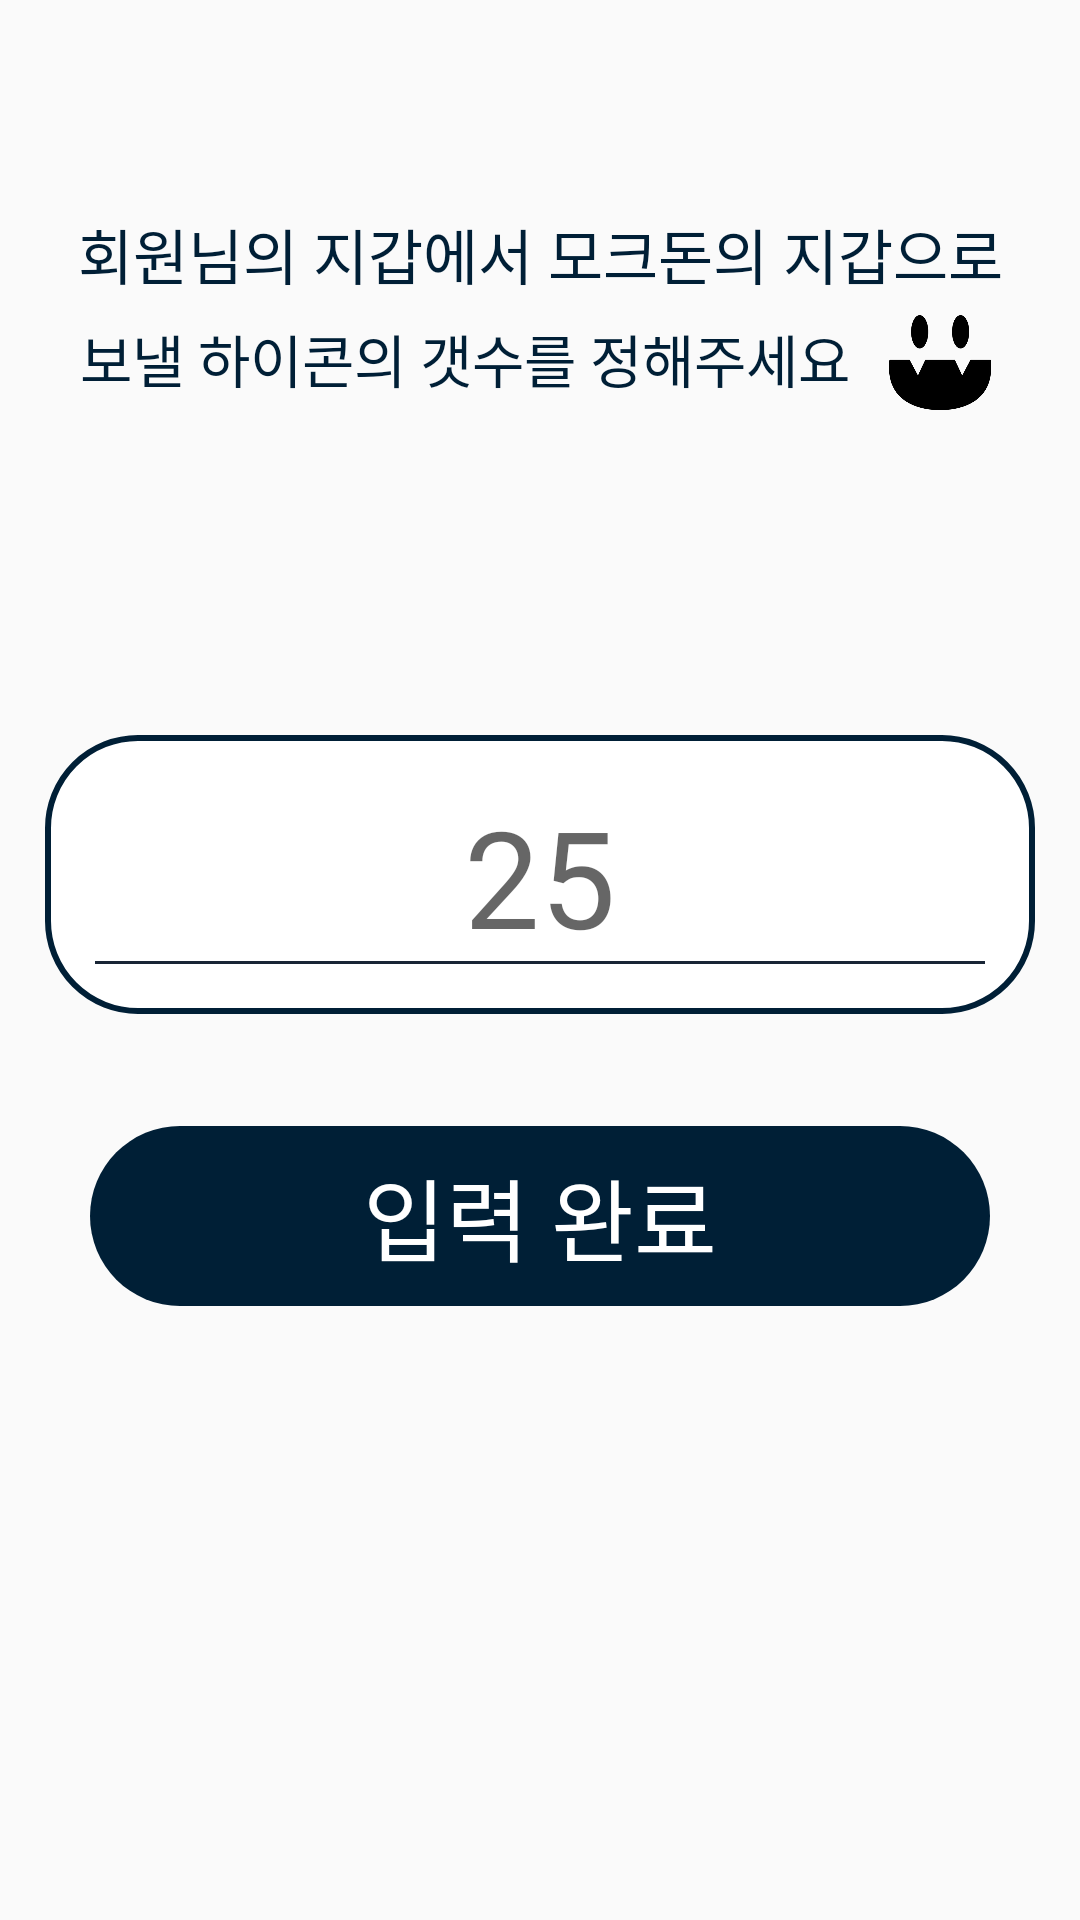

Locate icon controls on the screen. Image size 1080px×1920px, boxes as bbox(x1, y1, x2, y2).
face: bbox(889, 315, 991, 410)
